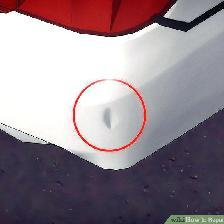bumper_dent: (46, 60, 165, 180)
